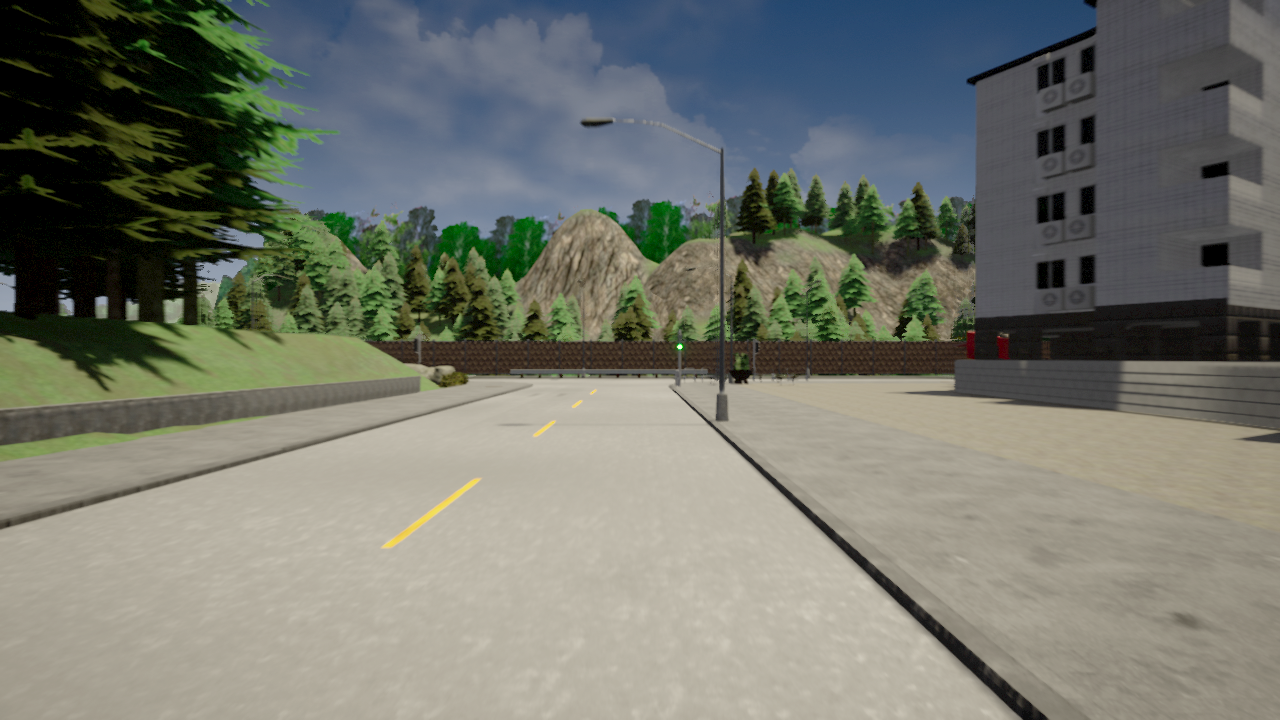green: (676, 334, 684, 352)
